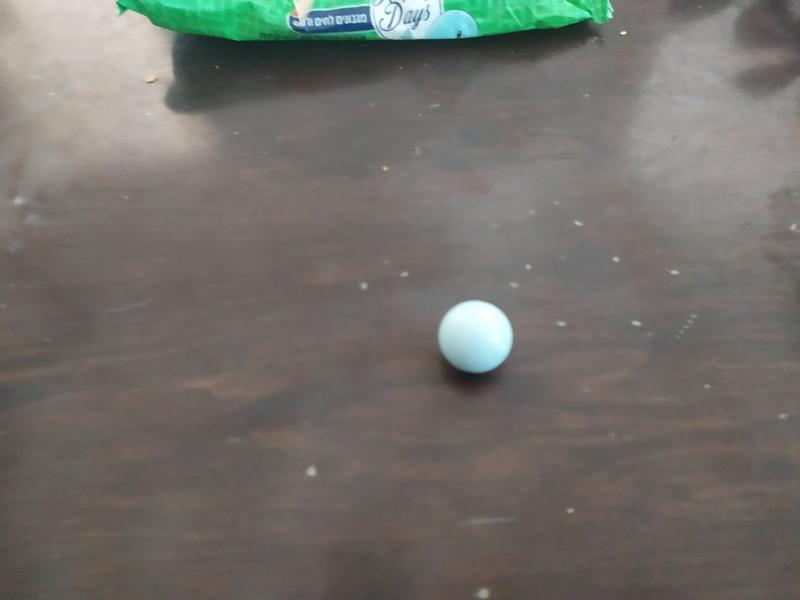Warning: (434, 297, 518, 377)
